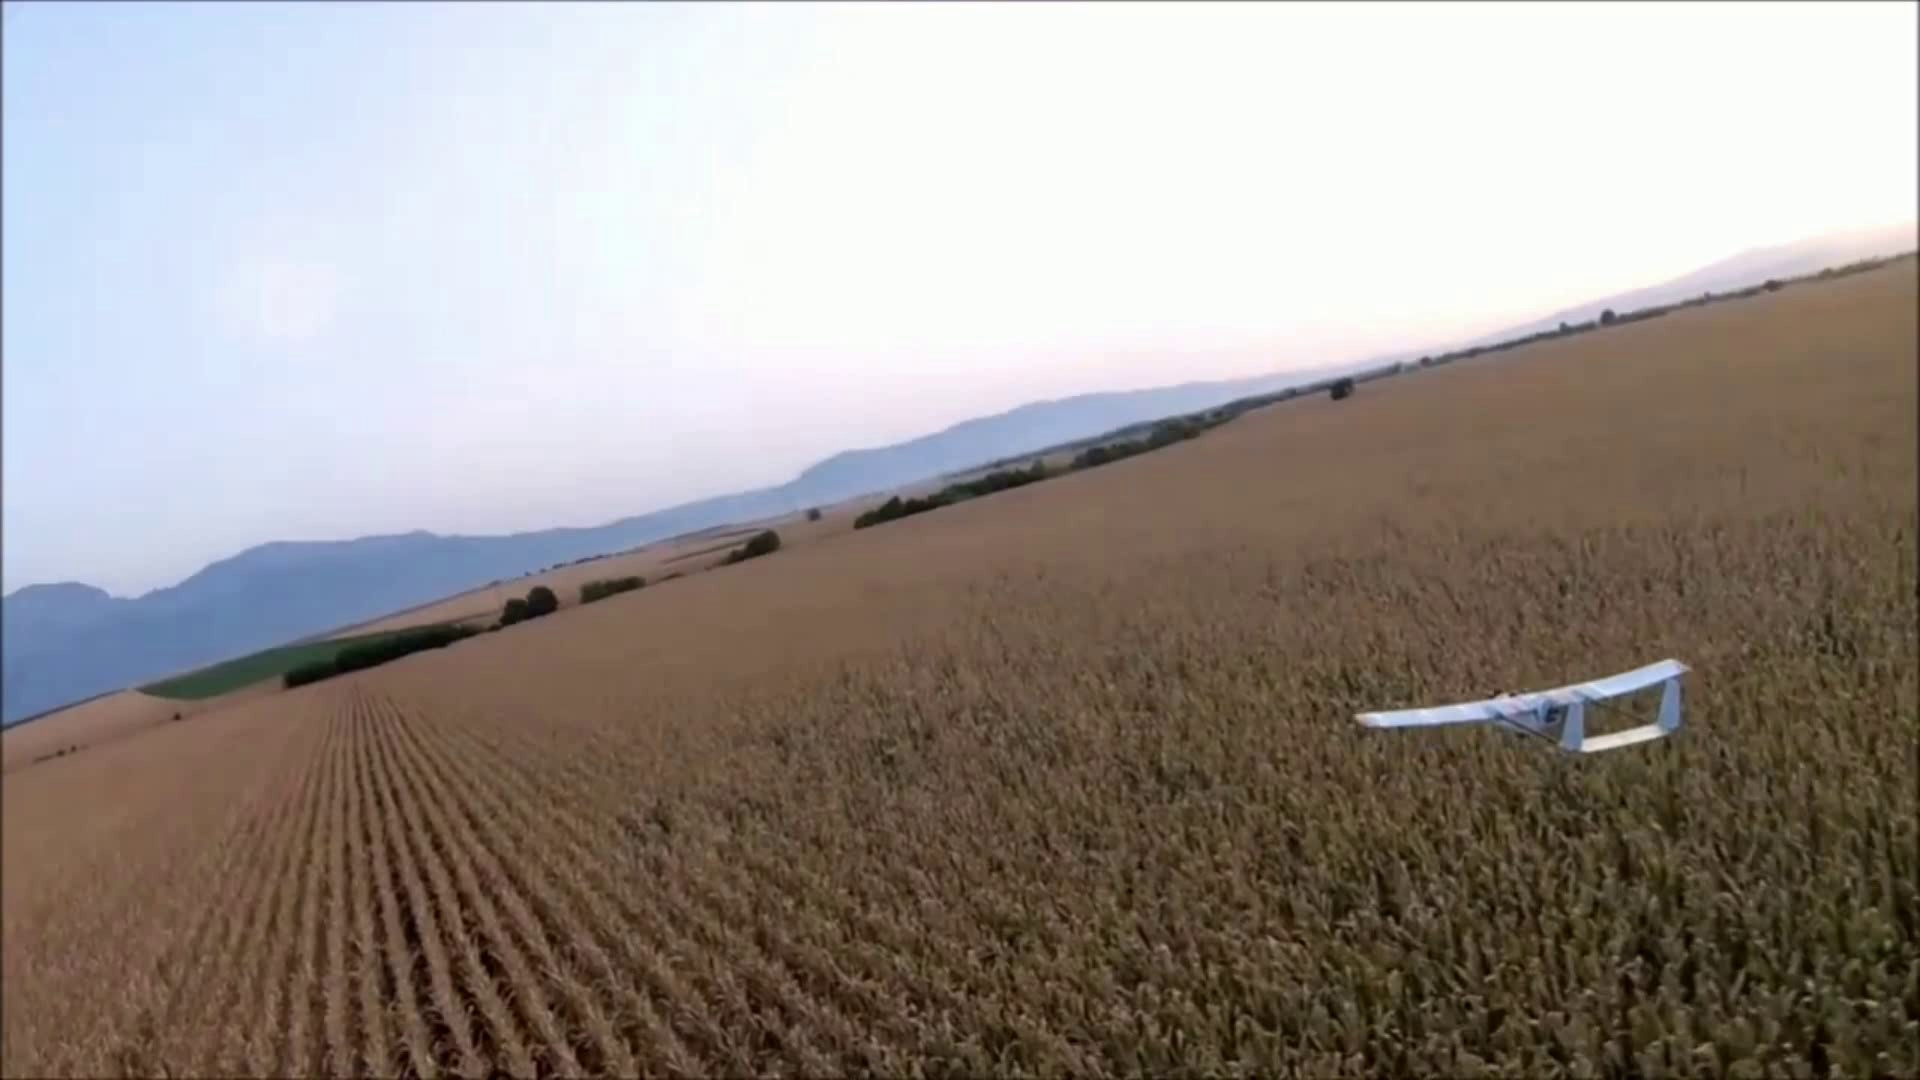airplane: (1354, 659, 1688, 756)
